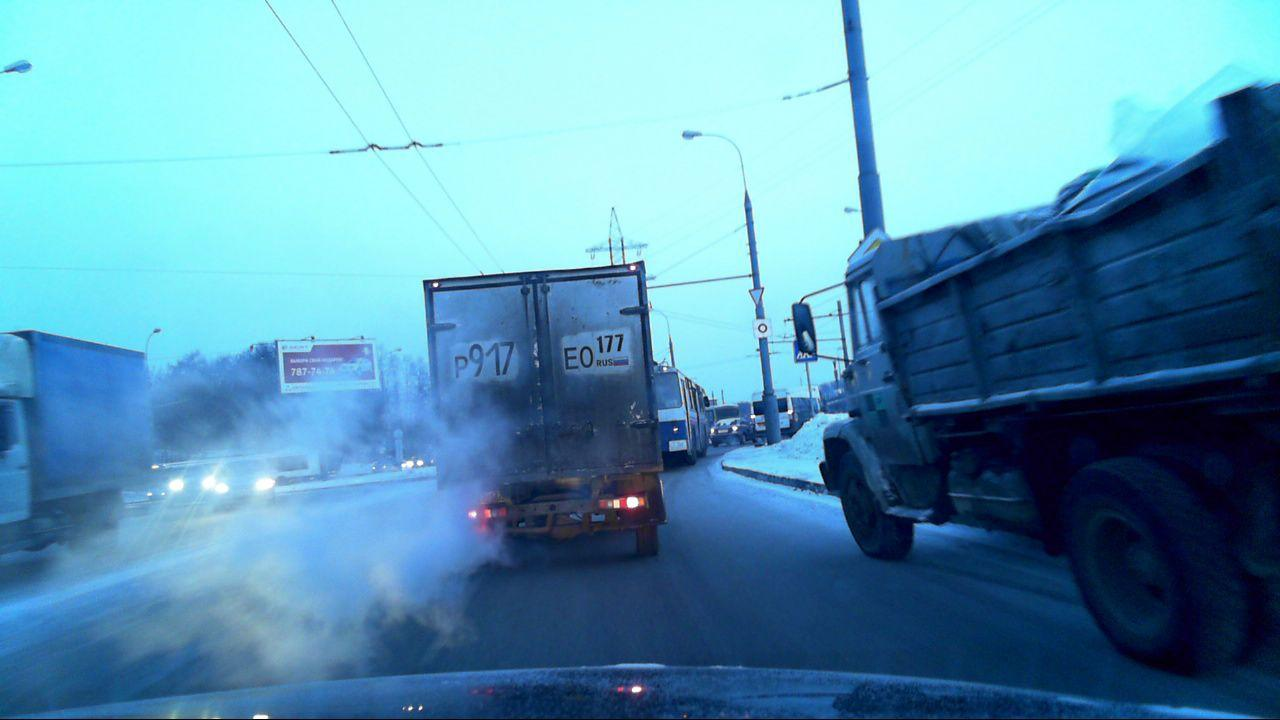2_2: (845, 223, 900, 261)
2_4: (747, 287, 766, 307)
5_19_1: (792, 339, 819, 363)
8_13: (751, 315, 773, 339)
